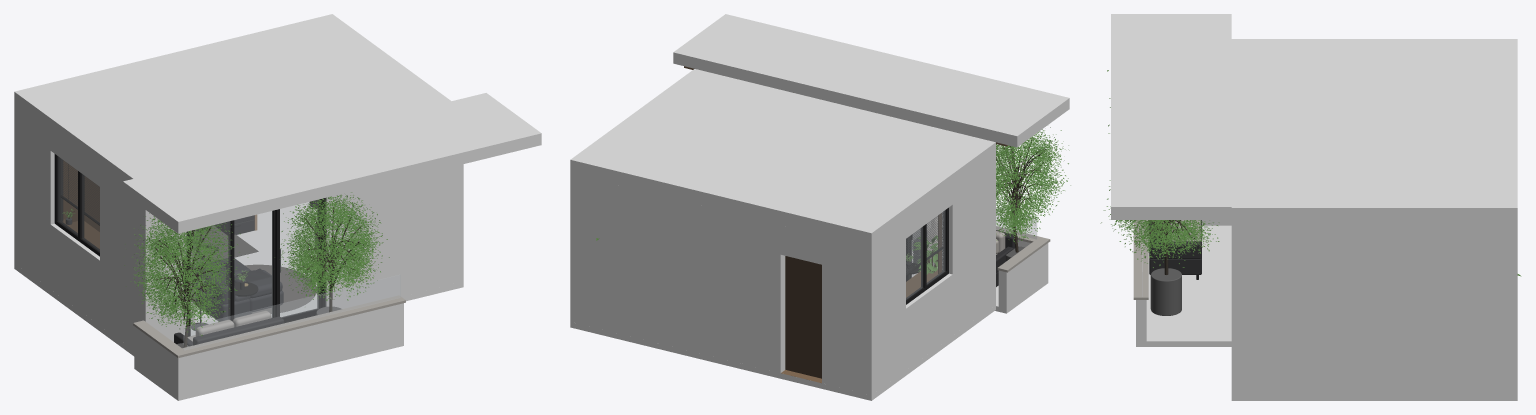
The model's file is oyun_odasi.glb.
3 renders of one model, left to right at view 1: azimuth 30°, elevation 25°; view 2: azimuth 150°, elevation 25°; view 3: azimuth 270°, elevation 25°, orthographic. The views are drawn at different scales.
Parts seen in each view (by area): view 1: Ceiling, Ter_soffit, WallS_b, Ter_parapet, Ter_tree1_crown, WallW_a, Ter_tree0_crown, WallW_b, Ter_glassrail, Floor, Slide1_glass, WallW_sill (+21 smaller); view 2: Ceiling, WallN_b, Ter_soffit, WallN_a, WallW_a, WallW_b, Ter_tree1_crown, Door_leaf, WallW_sill, Floor, Ter_wallW, WallN_head (+5 smaller); view 3: Ceiling, WallE, Ter_soffit, Ter_floor, WallN_b, WallS_b, Ter_tree0_crown, Floor, Ter_planter0, Ter_coping, OSofa_armR, OSofa_frame (+1 smaller).
Part boxes in pixels (<box>): Ceiling: <box>14,14,451,185</box>; Ter_soffit: <box>123,93,541,233</box>; WallS_b: <box>325,167,452,308</box>; Ter_parapet: <box>173,303,403,400</box>; Ter_tree1_crown: <box>124,213,248,336</box>; WallW_a: <box>100,169,156,350</box>; Ter_tree0_crown: <box>274,192,389,300</box>; WallW_b: <box>14,107,54,288</box>; Ter_glassrail: <box>183,275,400,349</box>; Floor: <box>14,202,463,356</box>; Slide1_glass: <box>234,211,272,317</box>; WallW_sill: <box>50,223,99,325</box>; Ceiling: <box>570,69,995,246</box>; WallN_b: <box>570,174,785,373</box>; Ter_soffit: <box>673,14,1069,147</box>; WallN_a: <box>822,235,877,394</box>; WallW_a: <box>942,158,993,335</box>; WallW_b: <box>861,222,905,395</box>; Ter_tree1_crown: <box>996,127,1070,243</box>; Door_leaf: <box>785,256,821,378</box>; WallW_sill: <box>906,273,952,369</box>; Floor: <box>570,304,995,400</box>; Ter_wallW: <box>998,246,1043,313</box>; WallN_head: <box>780,225,821,264</box>; Ceiling: <box>1231,39,1517,223</box>; WallE: <box>1246,224,1503,394</box>; Ter_soffit: <box>1111,14,1231,219</box>; Ter_floor: <box>1146,225,1231,346</box>; WallN_b: <box>1503,224,1517,394</box>; WallS_b: <box>1231,224,1245,394</box>; Ter_tree0_crown: <box>1100,180,1219,267</box>; Floor: <box>1231,394,1517,400</box>; Ter_planter0: <box>1150,268,1181,315</box>; Ter_coping: <box>1133,220,1148,299</box>; OSofa_armR: <box>1149,241,1201,258</box>; OSofa_frame: <box>1149,220,1201,274</box>.
Bounding box in the file's own units: 6.85 × 3.22 × 5.95.
